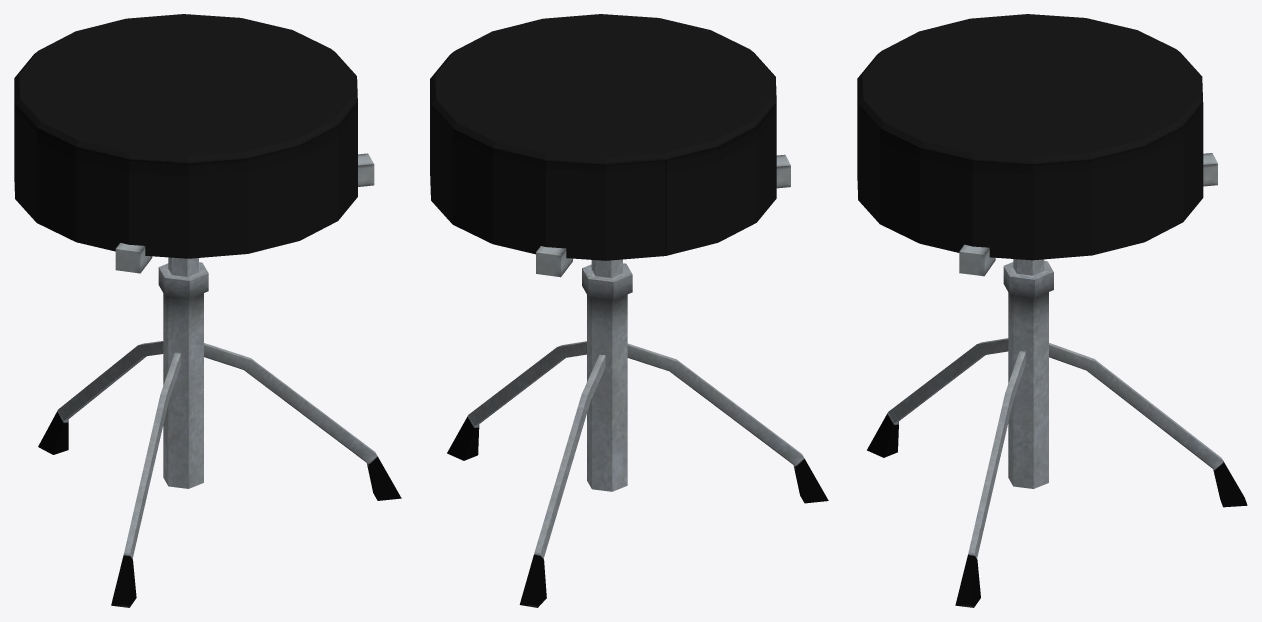
Rendered from ARC0810049.fbx.
The picture shows the model from 3 angles, left to right: view 1: azimuth 30°, elevation 25°; view 2: azimuth 150°, elevation 25°; view 3: azimuth 270°, elevation 25°; orthographic projection.
Visible parts, largest first — view 1: smARC0810049; view 2: smARC0810049; view 3: smARC0810049.
Part boxes in pixels (x1,y1,x2,y2): smARC0810049: (14,14,401,607); smARC0810049: (430,14,828,607); smARC0810049: (857,14,1247,607).
Bounding box in the file's own units: 60.46 × 74.29 × 60.82.
1 material, 1 textured.
